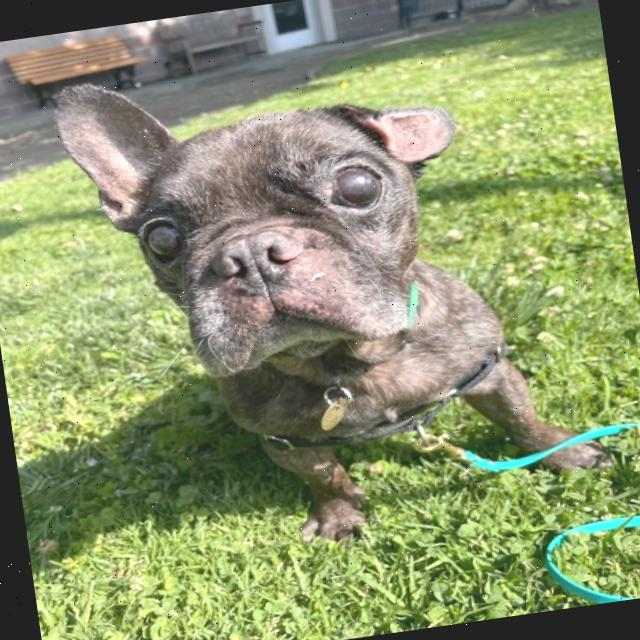french_bulldog_dog: (29, 21, 501, 418)
